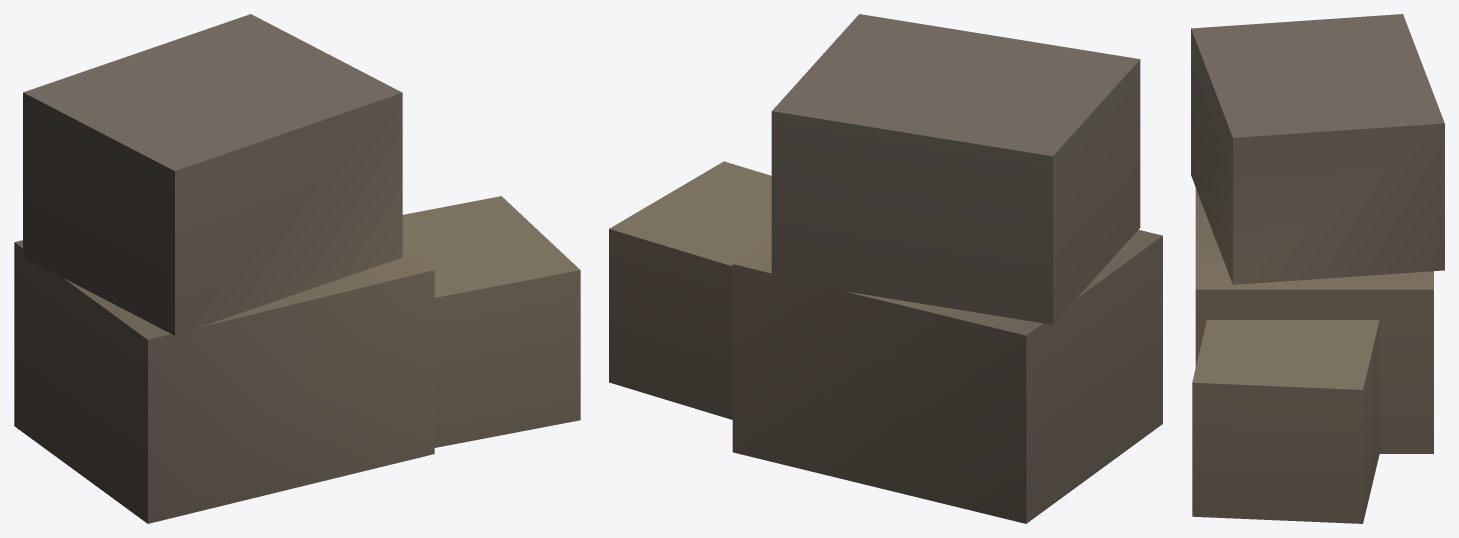
File: prop_crate.glb
3 views of the same model, side by side, from view 1: azimuth 30°, elevation 25°; view 2: azimuth 150°, elevation 25°; view 3: azimuth 270°, elevation 25° (orthographic). The views are drawn at different scales.
Parts seen in each view (by area): view 1: prop_crate; view 2: prop_crate; view 3: prop_crate.
Boxes of the visible parts, x1,y1,x2,y2 form: prop_crate: (14,14,580,523); prop_crate: (609,14,1162,523); prop_crate: (1191,14,1444,523).
Bounding box in the file's own units: 0.9857 × 0.72 × 0.5319.
